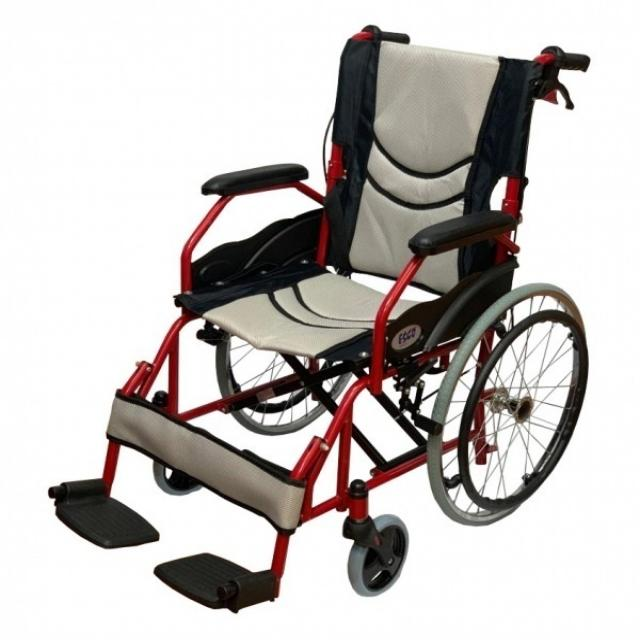wheelchair: (45, 22, 596, 622)
